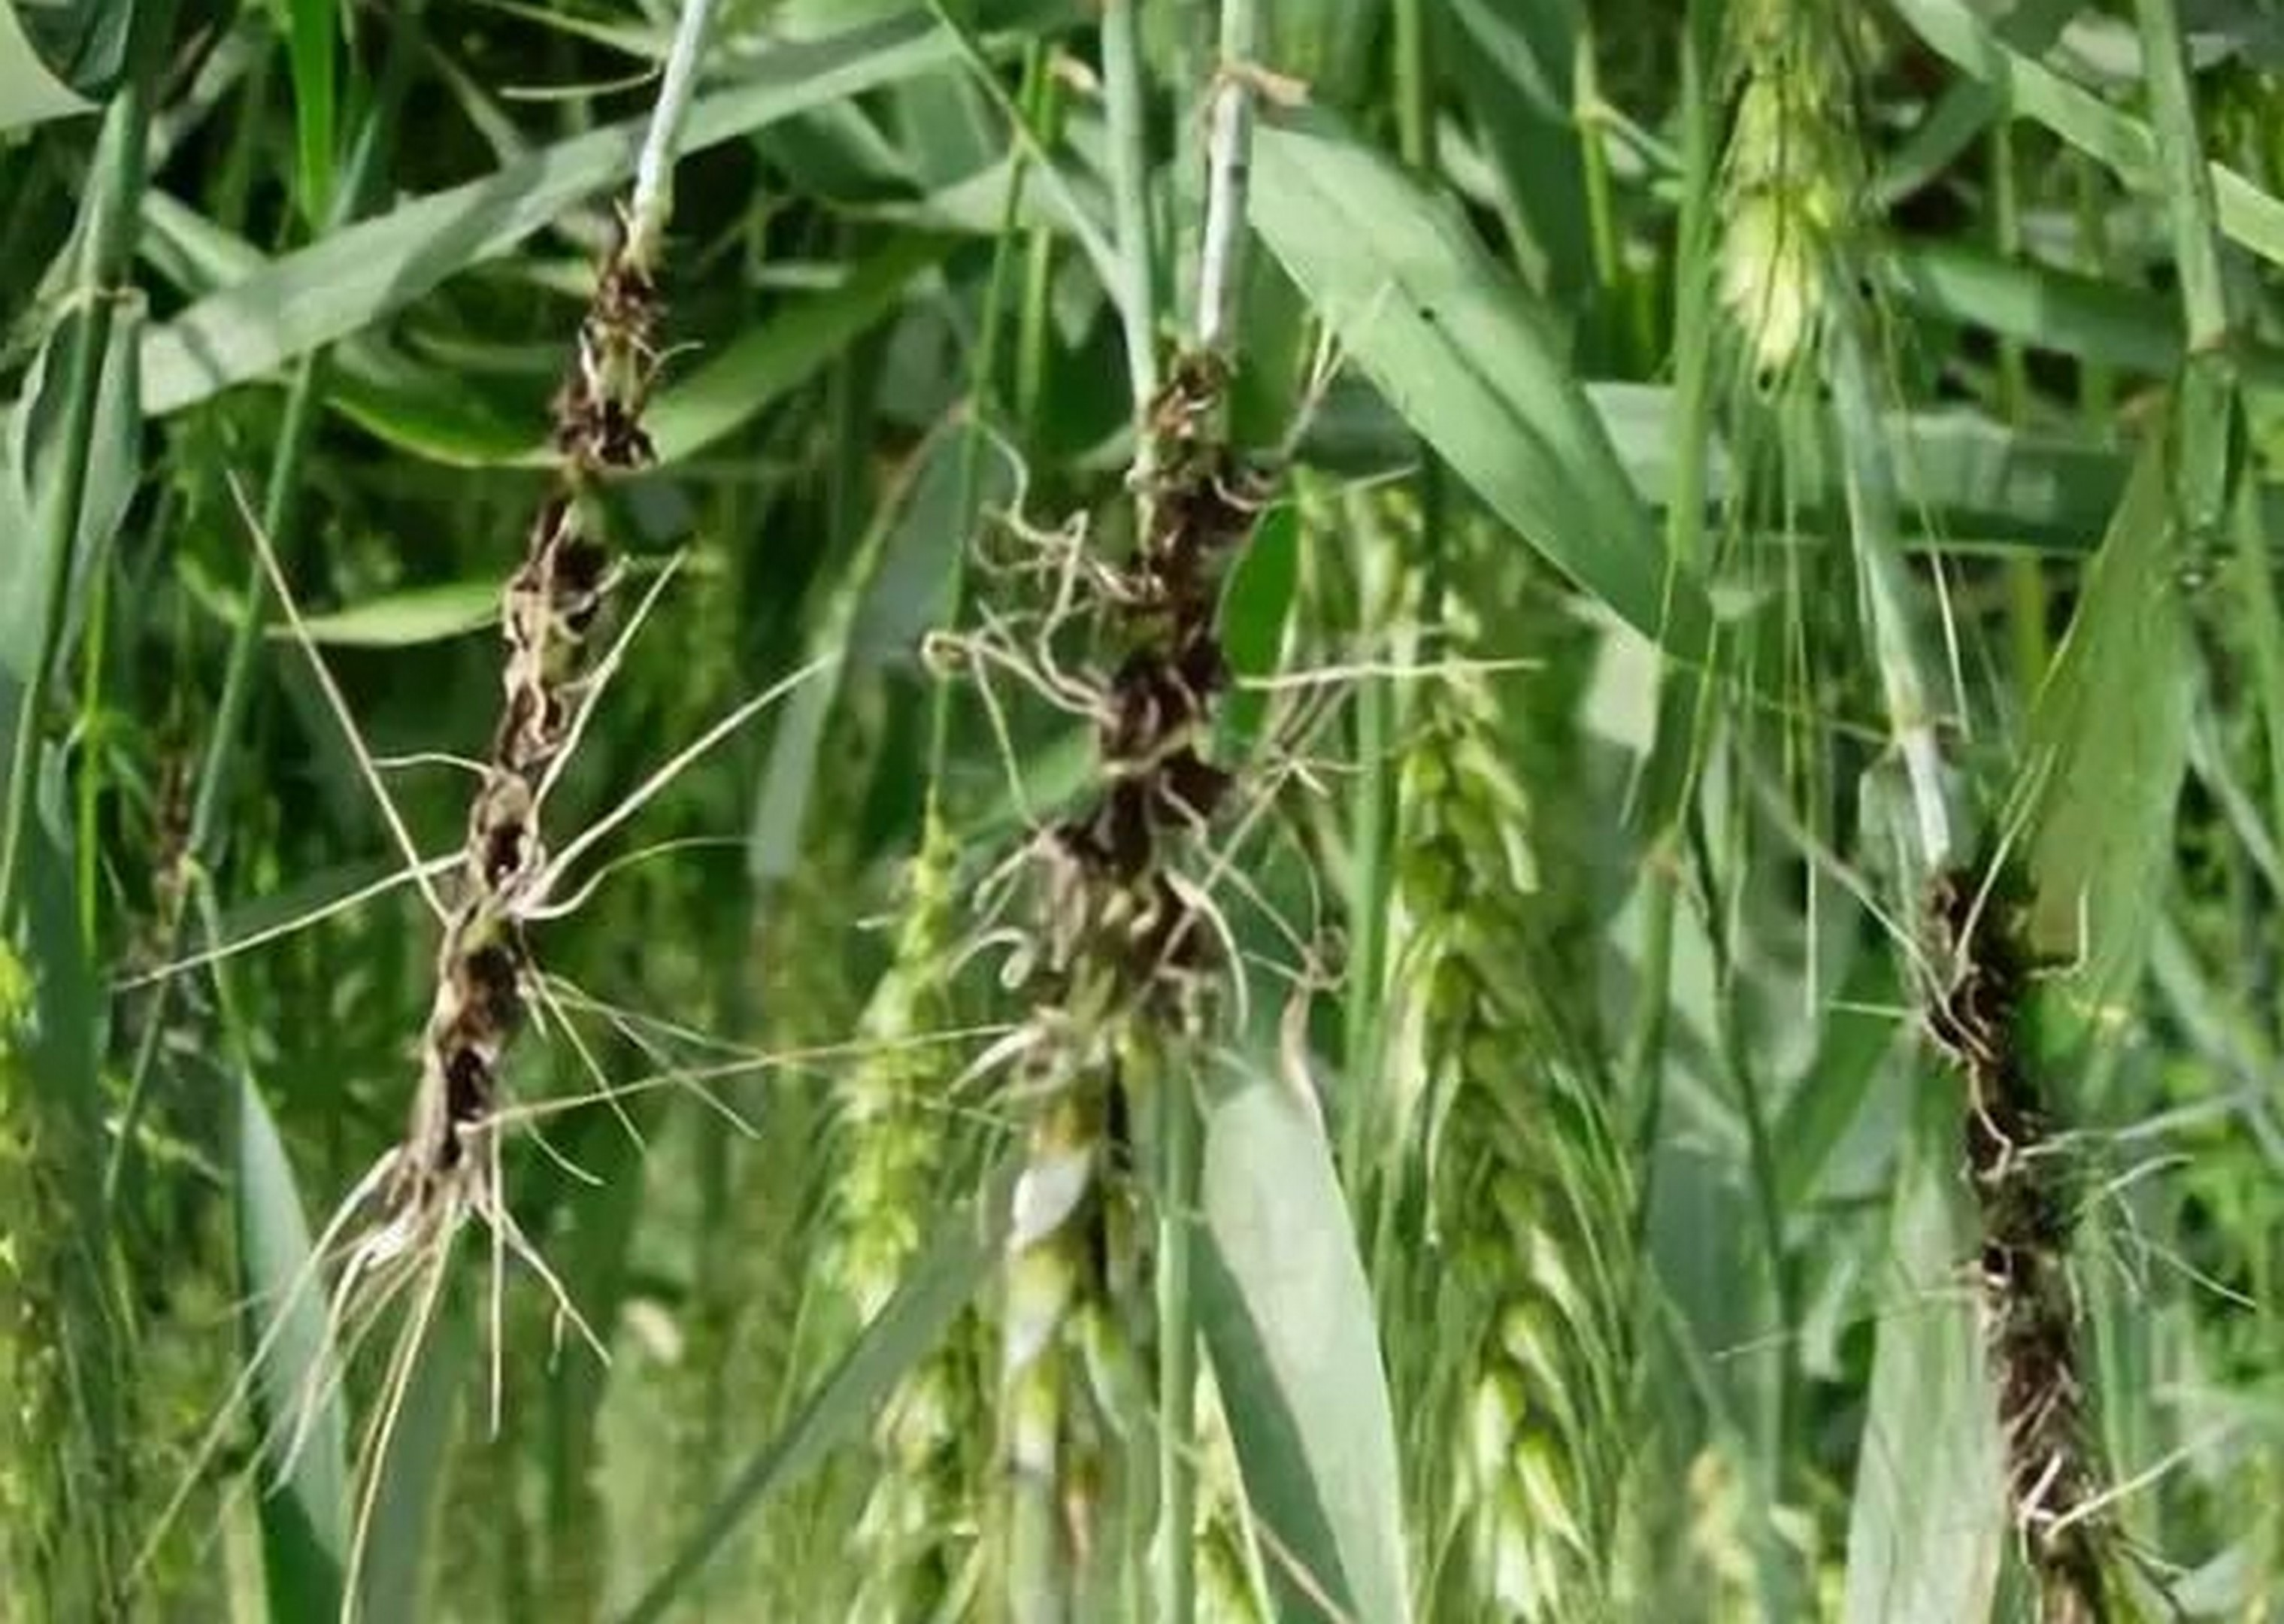Wheat Loose Smut: (416, 272, 696, 1186), (1903, 858, 2140, 1547), (1052, 350, 1298, 889)
